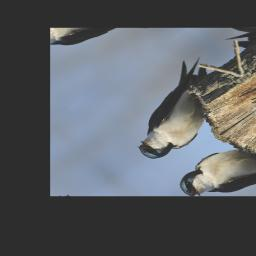Swallow: (101, 52, 250, 166)
